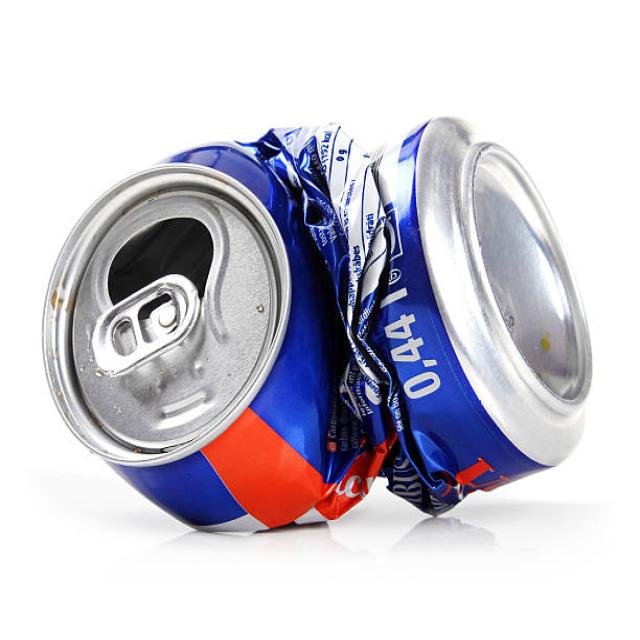can: (69, 0, 640, 559)
